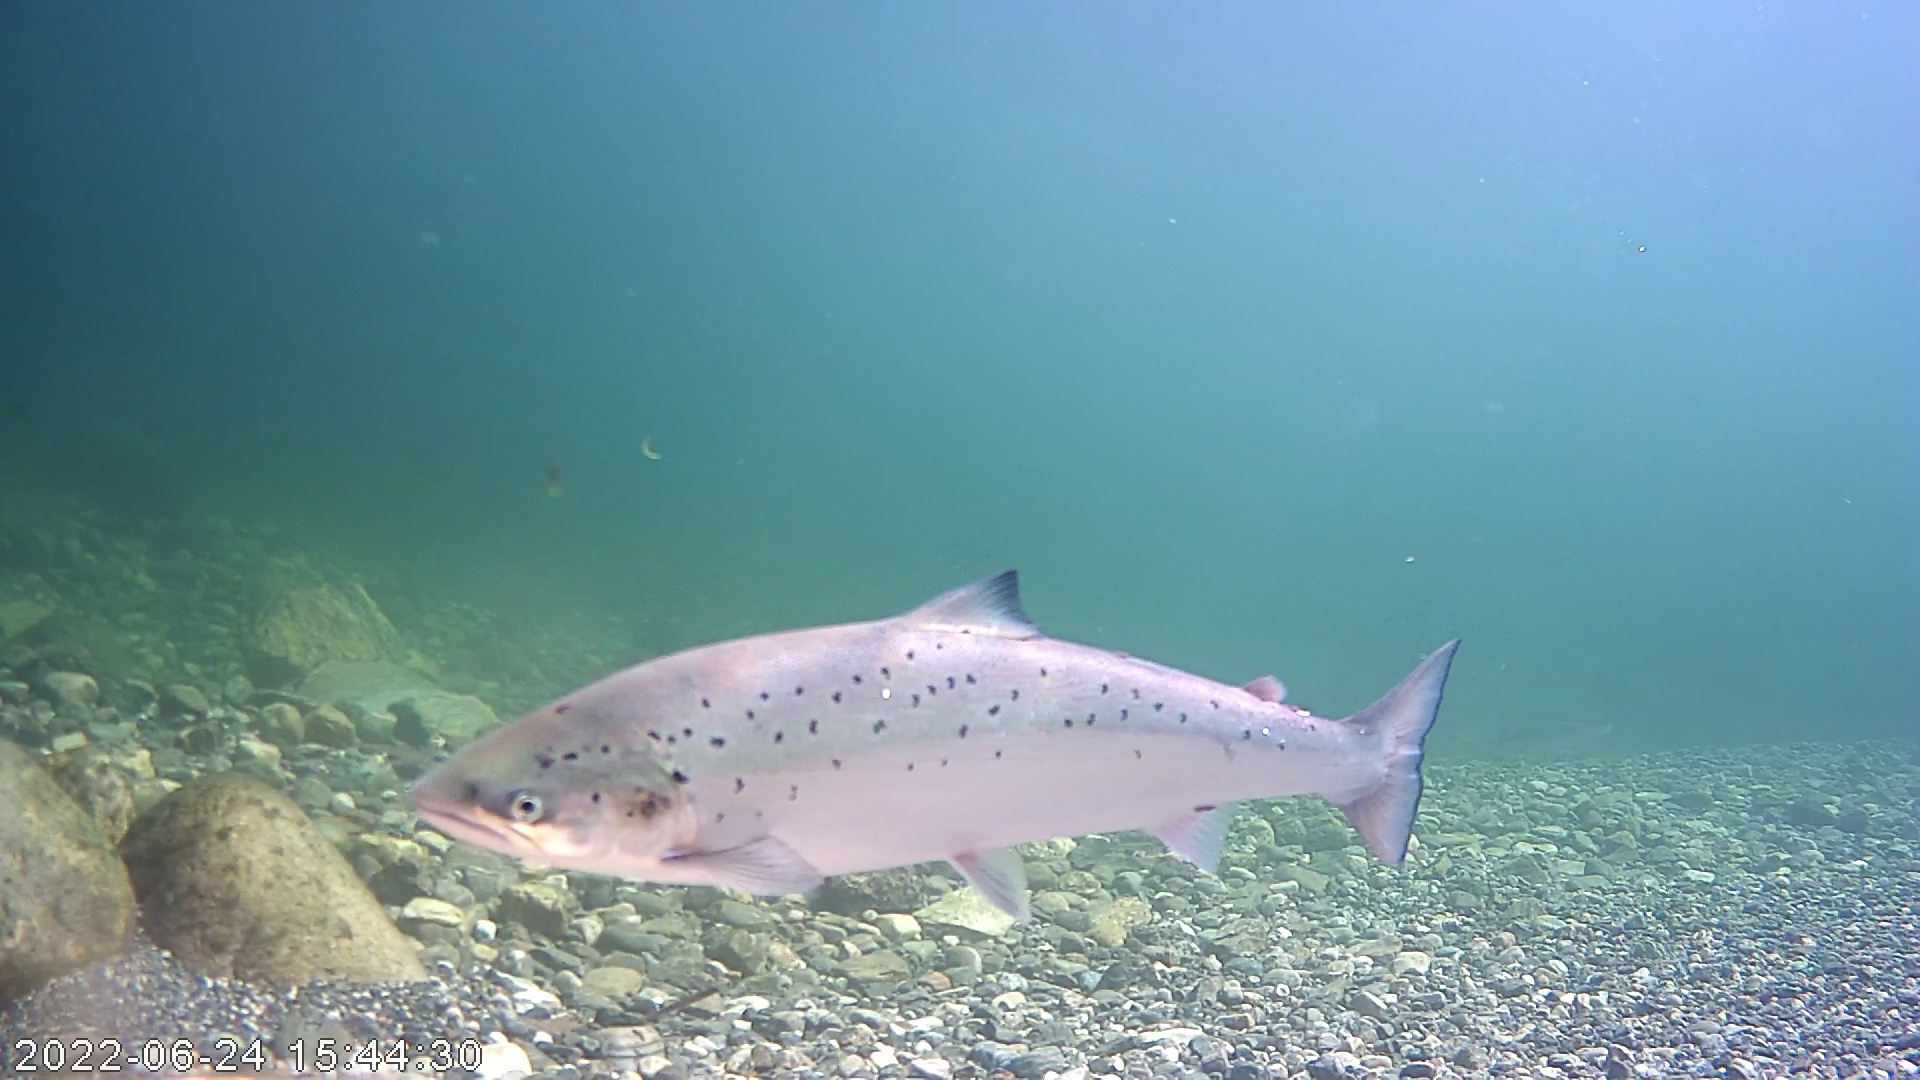salmon: (407, 567, 1462, 918)
